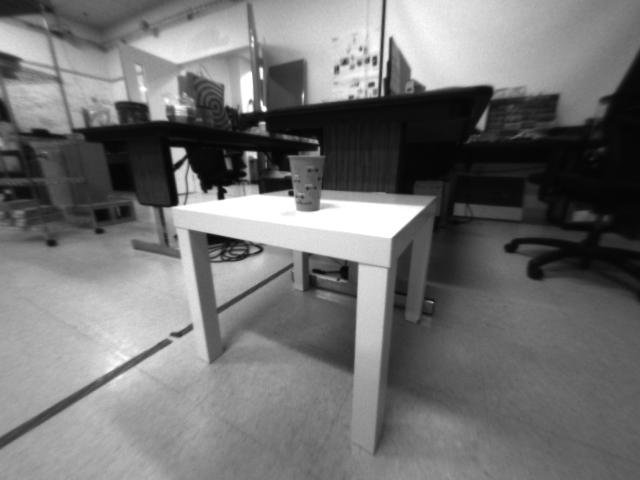coffee_cup: (285, 152, 328, 211)
